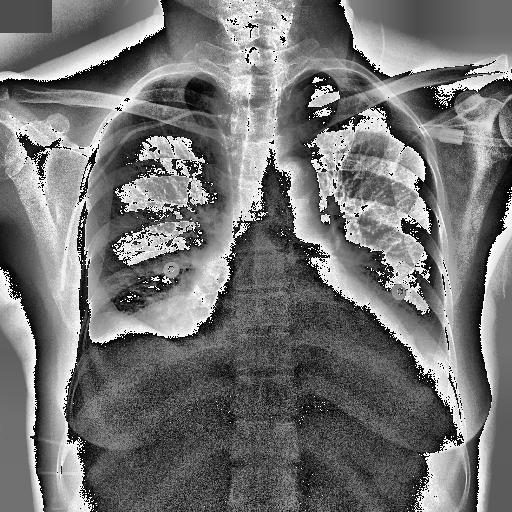0- Aortic enlargement: (261, 155, 321, 212), (273, 158, 315, 198)
10- Pleural effusion: (74, 312, 190, 378), (83, 305, 155, 346), (78, 321, 112, 368)
11- Pleural thickening: (83, 305, 155, 346), (78, 321, 112, 368)
3- Cardiomegaly: (182, 286, 432, 375), (198, 308, 430, 390), (182, 314, 427, 388)
7- Lung Opacity: (100, 311, 164, 335)
9- Other lesion: (100, 311, 164, 335)
